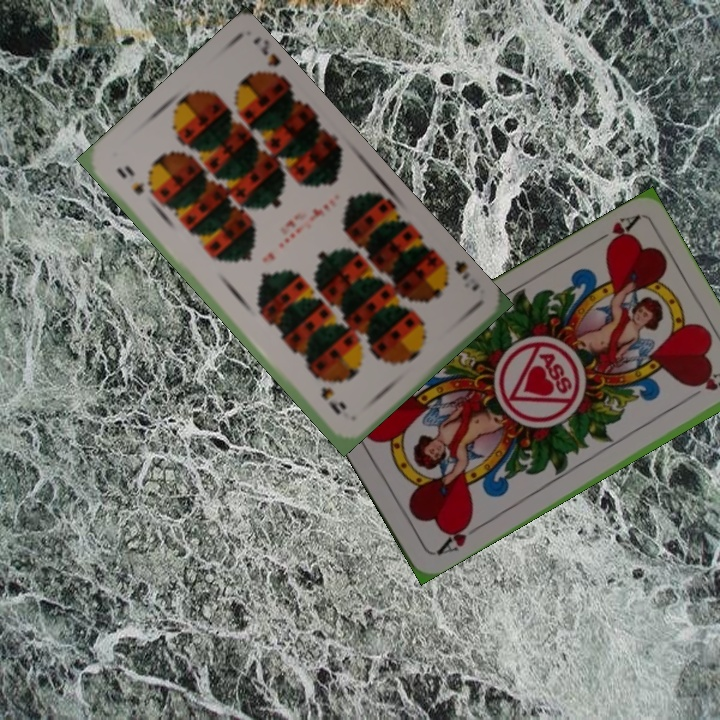HA: (586, 211, 641, 252), (432, 515, 475, 558)
S9: (434, 255, 482, 294), (112, 163, 147, 198)
